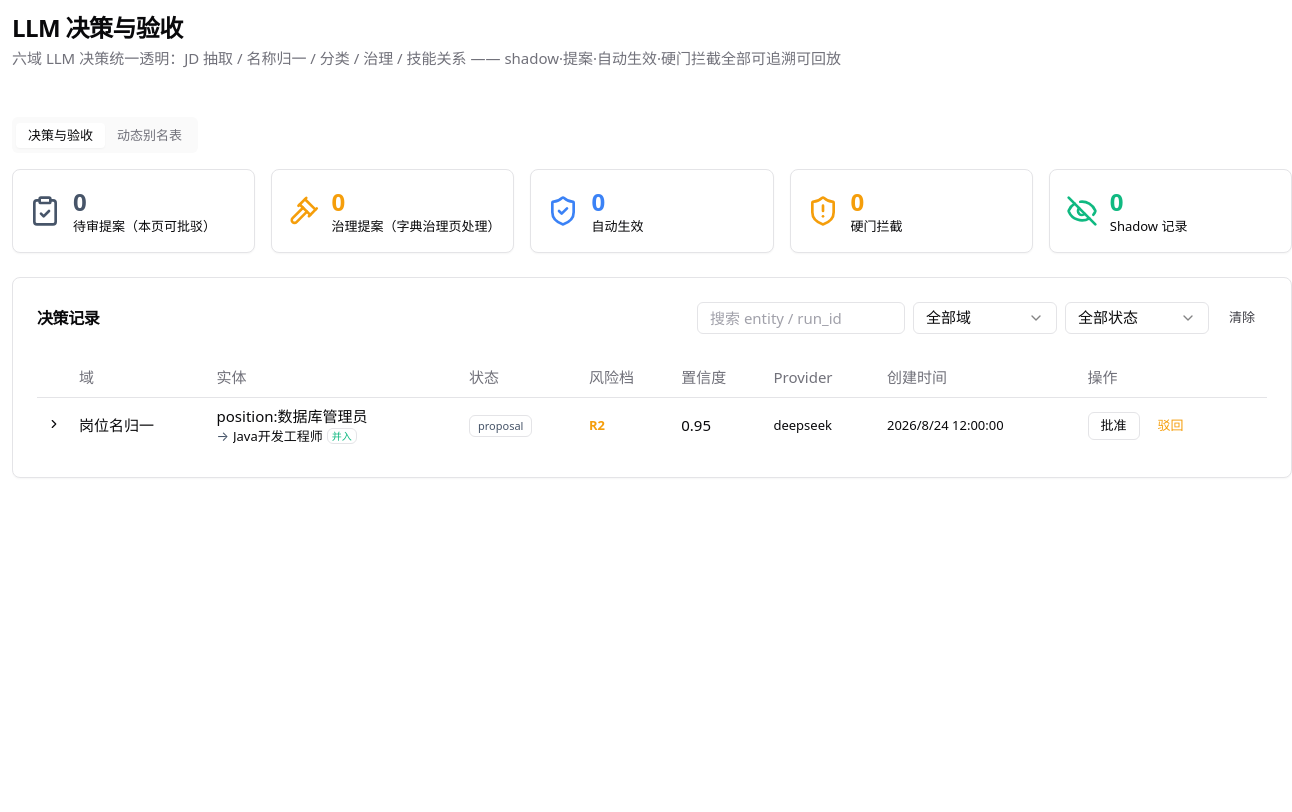
Scenario: AdminLlmDecisionsPage 岗位归一审批上下文 › 归一证据按来源+原文链接渲染（不再出现空标签「：-」）
The image size is (1292, 812).
Expected: the text "position:数据库管理员" is shown, [216,406,368,426]
Click the button named "展开详情". click: (54, 424)
box: [45,415,63,433]
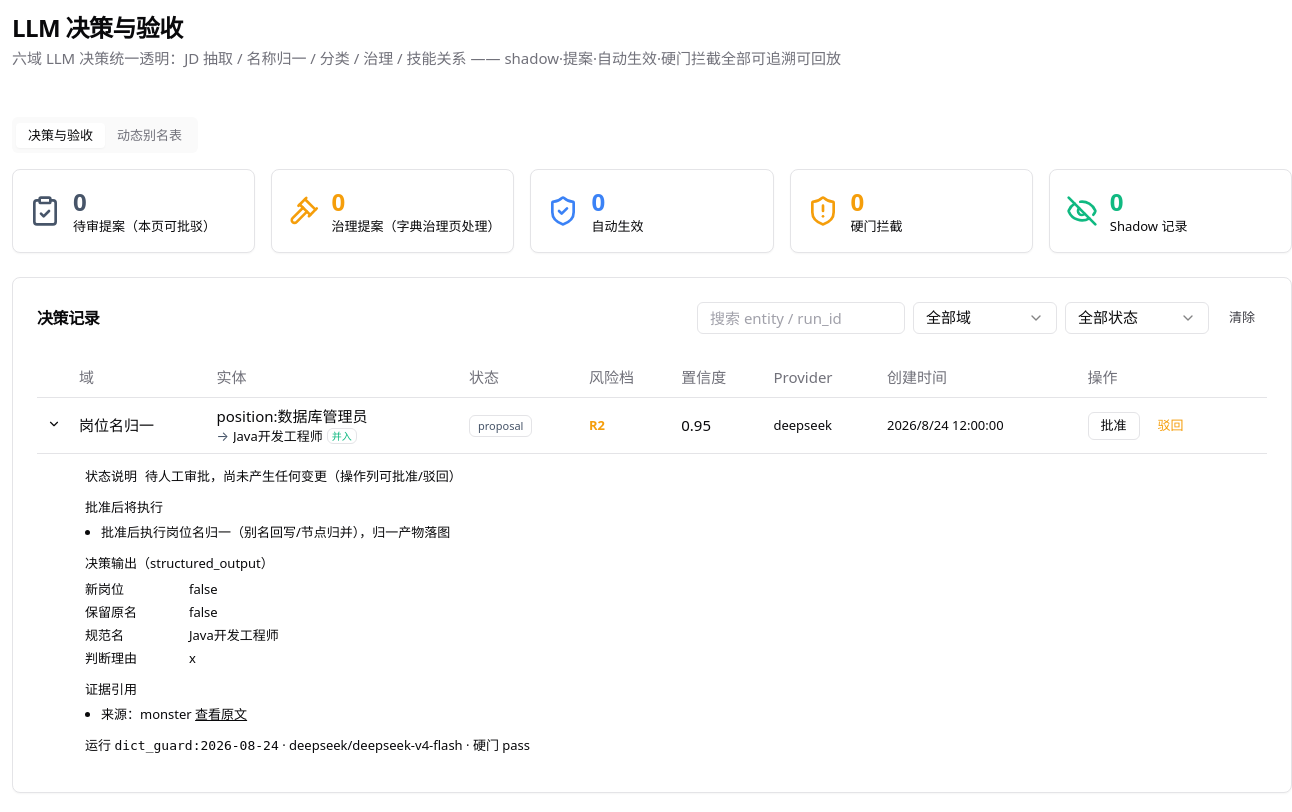
Result: the text "证据引用" is shown at [85,680,137,698]
Result: the list item "来源：monster 查看原文" is shown at [101,705,247,723]
